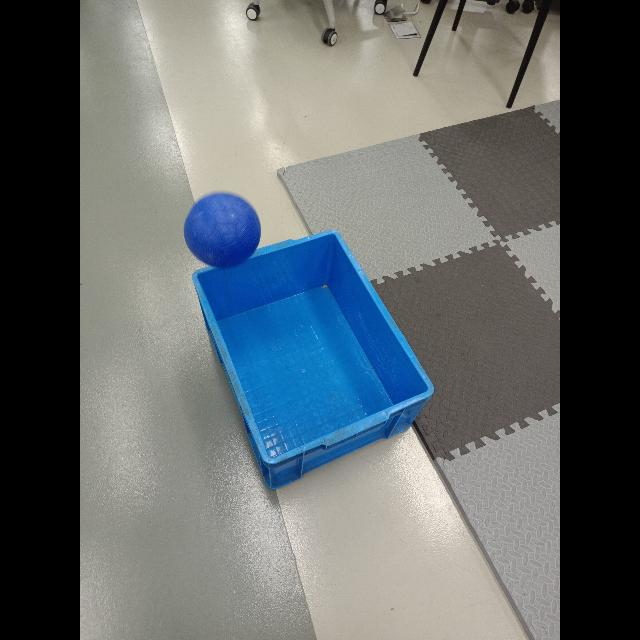B: (184, 191, 264, 267)
